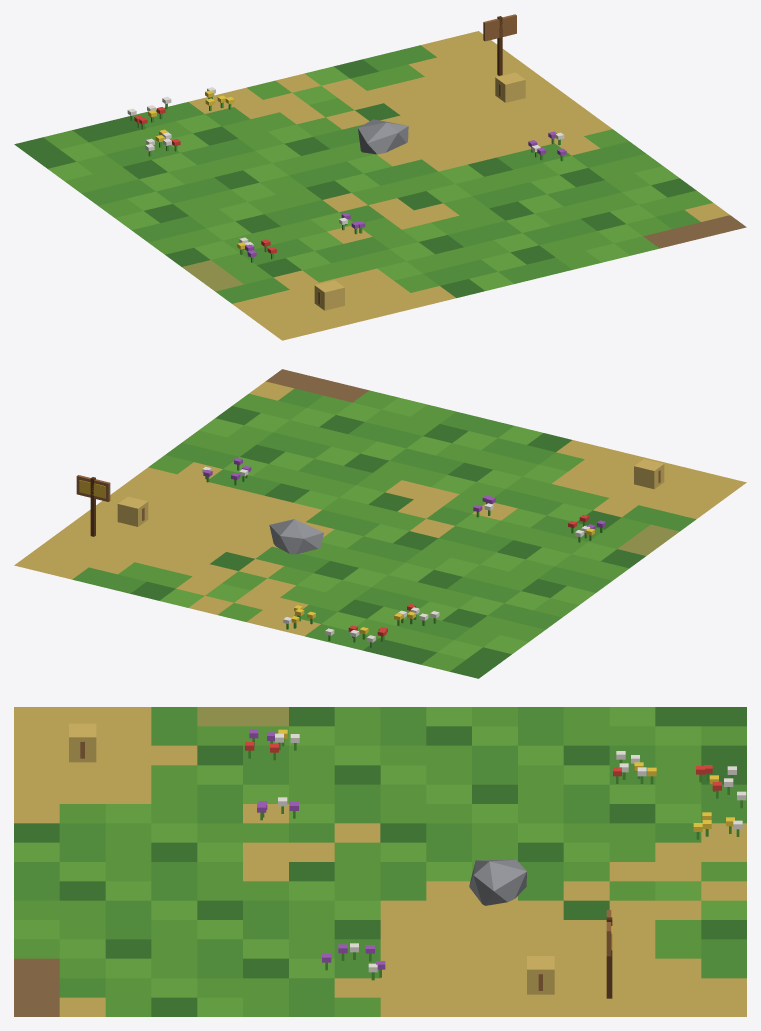
Rendered from chunk_8_10.glb.
The picture shows the model from 3 angles, top to bottom: view 1: azimuth 30°, elevation 25°; view 2: azimuth 150°, elevation 25°; view 3: azimuth 270°, elevation 25°; orthographic projection. The views are drawn at different scales.
Visible parts, largest first — view 1: chunk_8_10; view 2: chunk_8_10; view 3: chunk_8_10.
Part boxes in pixels (<box>): chunk_8_10: <box>14,14,746,340</box>; chunk_8_10: <box>14,369,746,678</box>; chunk_8_10: <box>14,707,746,1016</box>.
Size of the model in its own units: 16 by 2.36 by 16.
